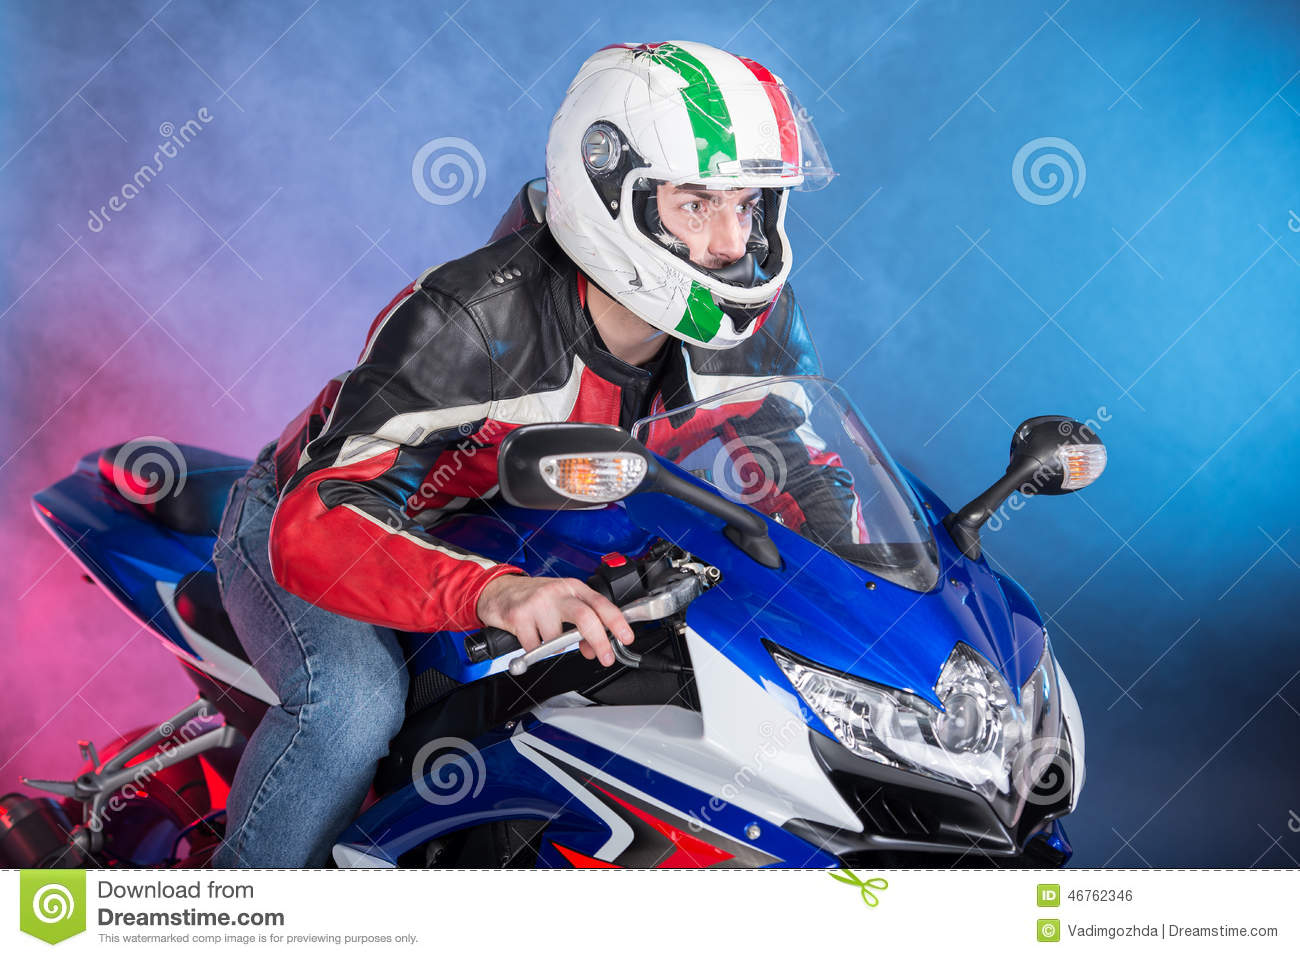helmet: (535, 30, 820, 327)
